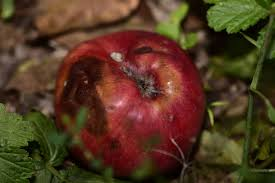damaged_apple: (55, 34, 204, 178)
